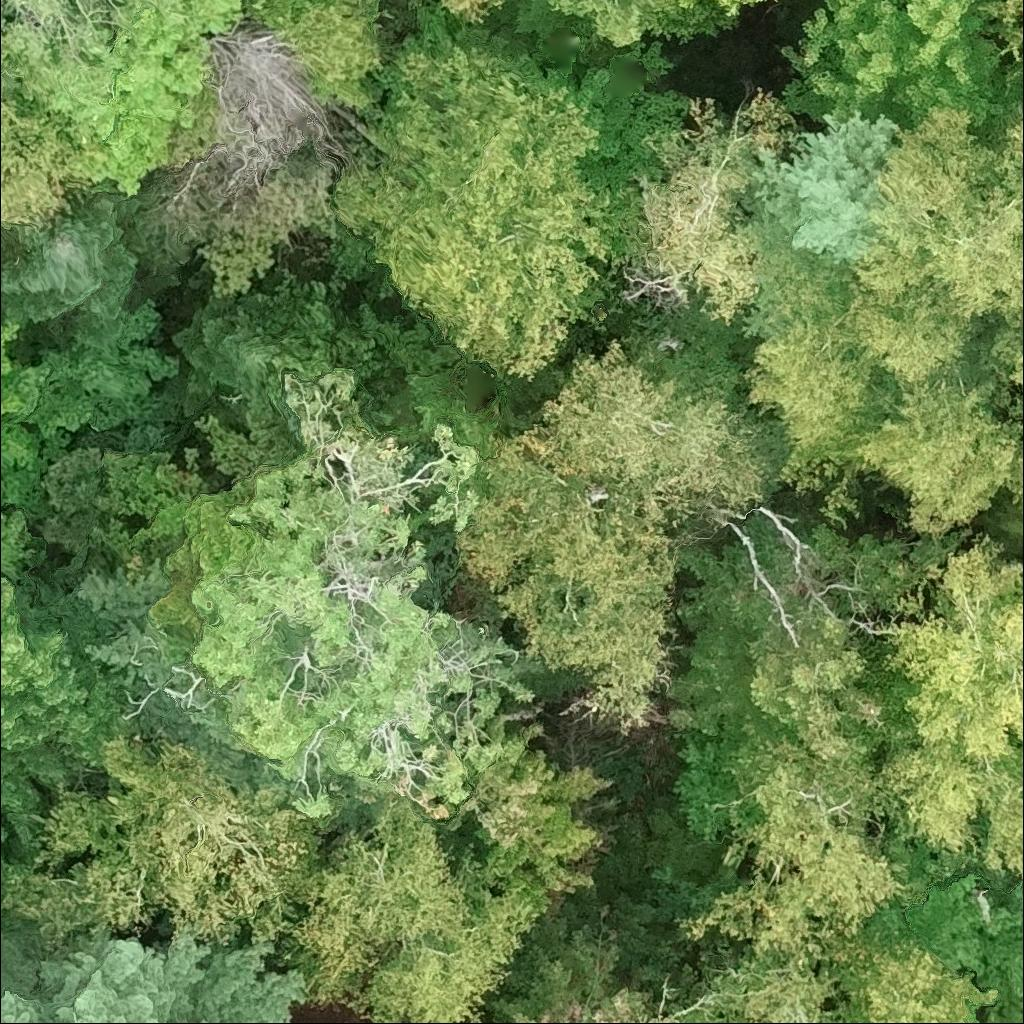crown: (461, 337, 786, 736), (327, 43, 641, 382), (188, 450, 465, 828), (0, 732, 322, 944), (269, 794, 551, 1023), (668, 731, 921, 958), (22, 553, 259, 785), (844, 93, 1023, 394), (616, 88, 797, 326), (45, 0, 248, 198), (740, 263, 901, 497), (429, 712, 619, 896), (877, 531, 1023, 765), (0, 574, 140, 811), (0, 921, 310, 1023), (778, 0, 1007, 134), (738, 107, 910, 269), (860, 373, 1023, 534), (876, 720, 1023, 876), (0, 184, 148, 332), (508, 903, 678, 1023), (0, 0, 185, 107), (818, 931, 997, 1023), (168, 294, 287, 426), (257, 0, 390, 116), (0, 89, 82, 232), (705, 953, 842, 1023), (0, 316, 48, 469), (975, 0, 1023, 63), (427, 0, 510, 27), (716, 0, 781, 20), (1002, 501, 1023, 535), (669, 0, 701, 11), (690, 1020, 714, 1023)
